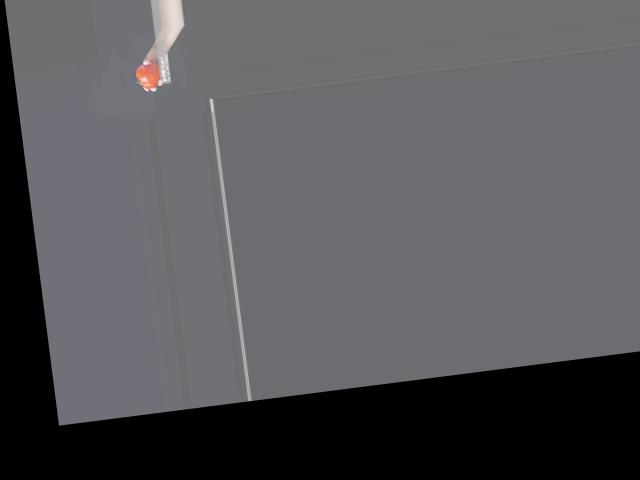tomato: (134, 62, 162, 90)
